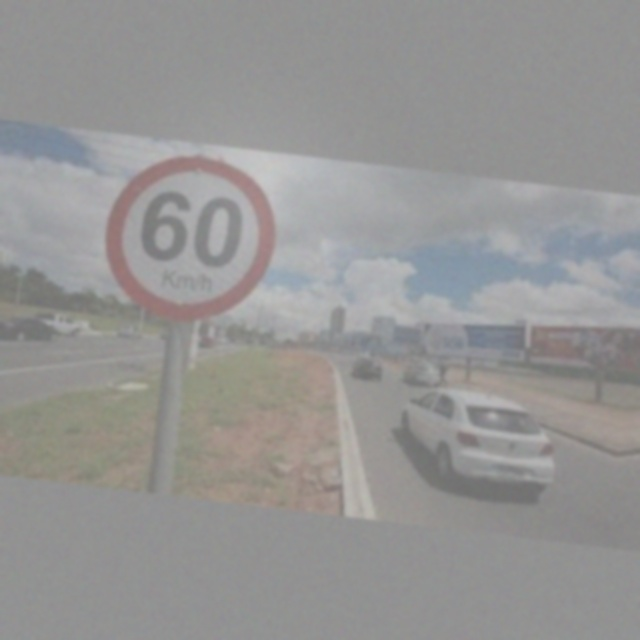Speed_Limit_60: (99, 143, 279, 329)
